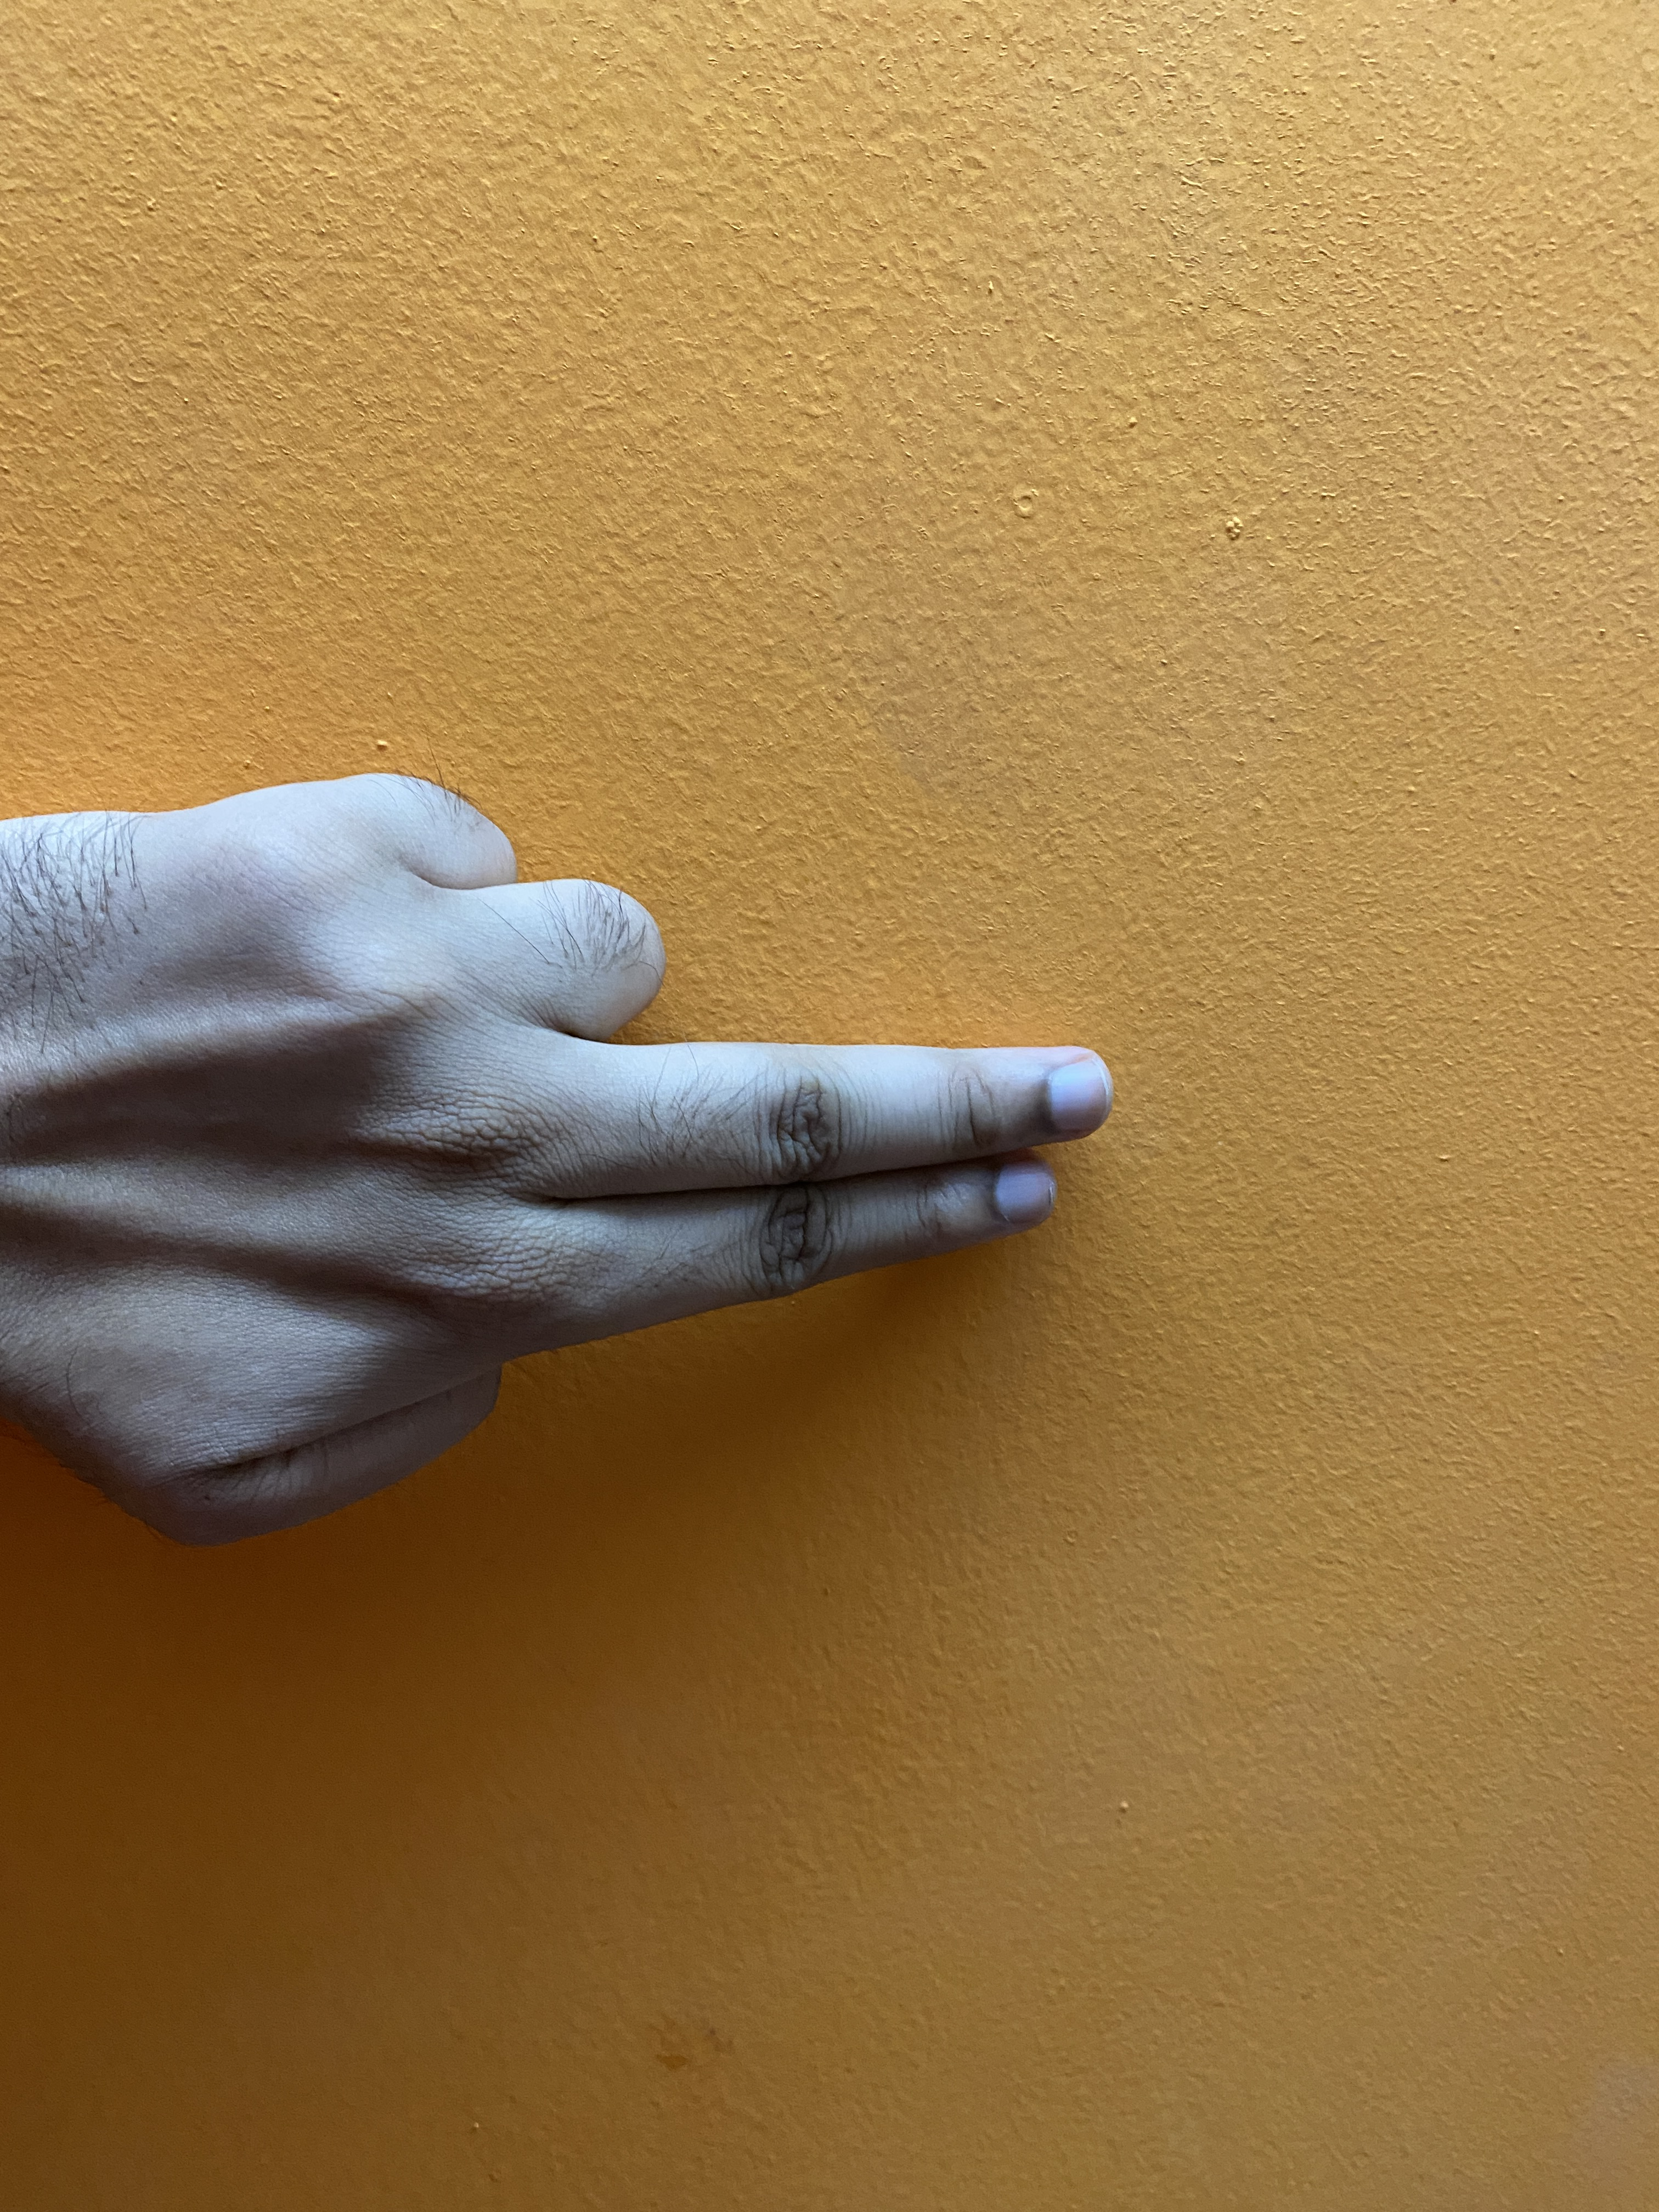left: (12, 686, 1190, 1653)
